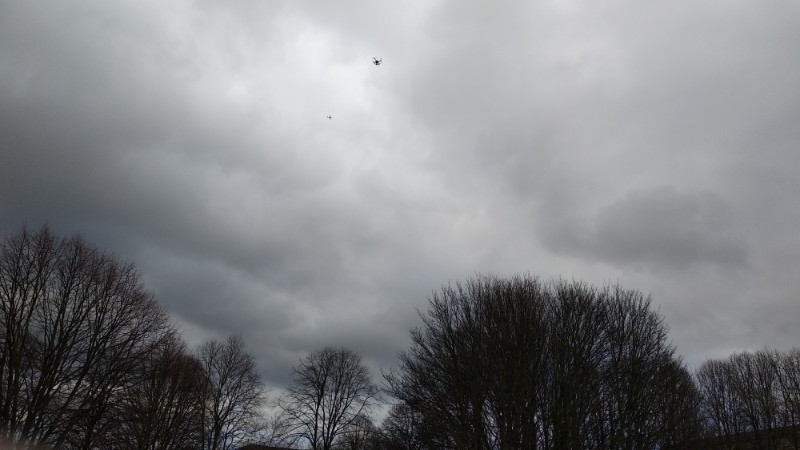drone: (373, 56, 382, 67)
